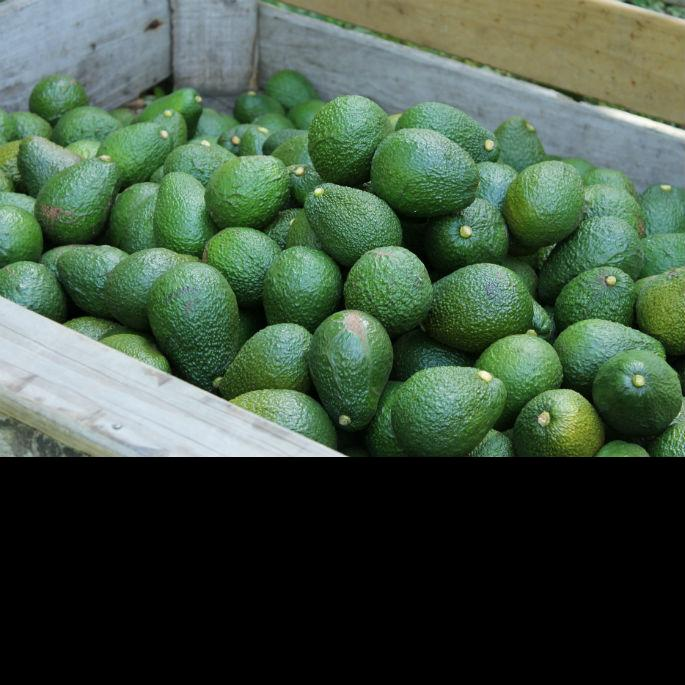unripe: (145, 261, 242, 393), (391, 366, 508, 457), (308, 310, 393, 434), (424, 263, 535, 353), (370, 128, 481, 217), (538, 215, 644, 304), (592, 350, 682, 444), (303, 182, 402, 263), (34, 156, 120, 243), (503, 161, 584, 250), (395, 102, 501, 169), (219, 323, 313, 397), (205, 155, 290, 231), (513, 389, 605, 456), (426, 197, 509, 269), (95, 122, 173, 189), (554, 266, 638, 328), (155, 171, 216, 256), (58, 246, 131, 316), (17, 136, 81, 197), (137, 87, 203, 139), (494, 116, 549, 174), (639, 184, 684, 239), (233, 91, 285, 122), (150, 110, 188, 147), (241, 127, 269, 158)
